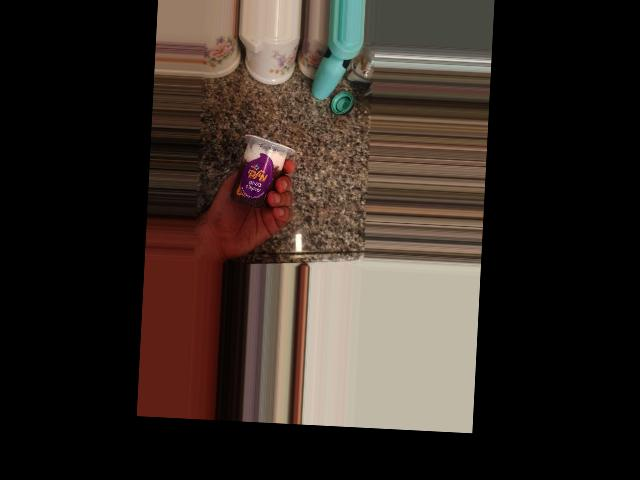milky: (295, 115, 377, 185)
